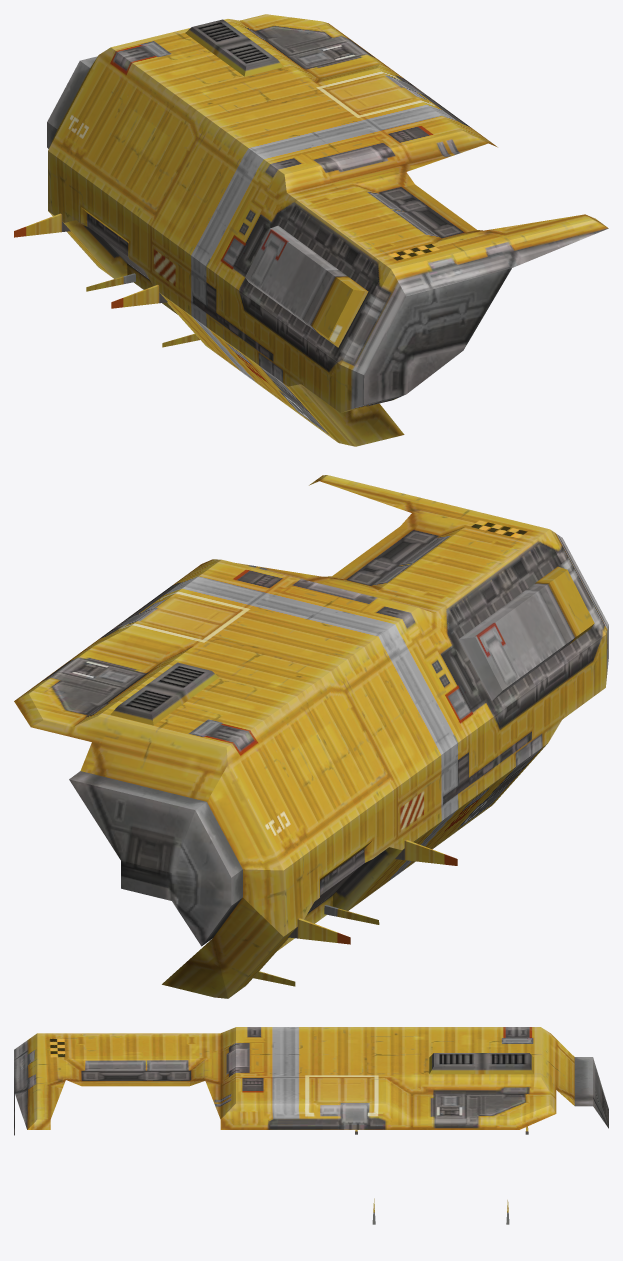
Rendered from hangar_hgn_carrier_02_basic_01_right.glb.
3 views of the same model, one above another, from view 1: azimuth 30°, elevation 25°; view 2: azimuth 150°, elevation 25°; view 3: azimuth 270°, elevation 25° (orthographic). The views are drawn at different scales.
Visible parts, largest first — view 1: hgn_flagship_carrier_t1_hangar_s_right_LOD0; view 2: hgn_flagship_carrier_t1_hangar_s_right_LOD0; view 3: hgn_flagship_carrier_t1_hangar_s_right_LOD0.
Boxes of the visible parts, x1=… form: hgn_flagship_carrier_t1_hangar_s_right_LOD0: x1=14, y1=14, x2=608, y2=446; hgn_flagship_carrier_t1_hangar_s_right_LOD0: x1=14, y1=475, x2=608, y2=998; hgn_flagship_carrier_t1_hangar_s_right_LOD0: x1=14, y1=1027, x2=608, y2=1224.
Bounding box in the file's own units: 1.47 × 1.05 × 2.79.
Materials: 1 (1 with a texture image).
